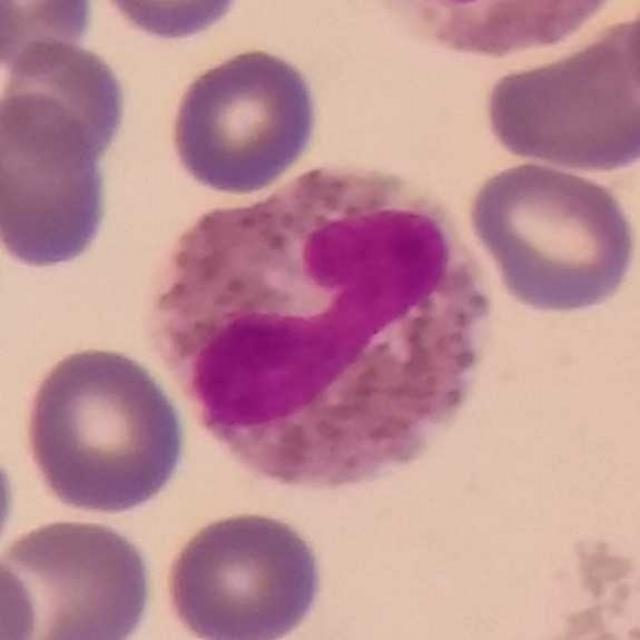eosino: (152, 151, 488, 495)
